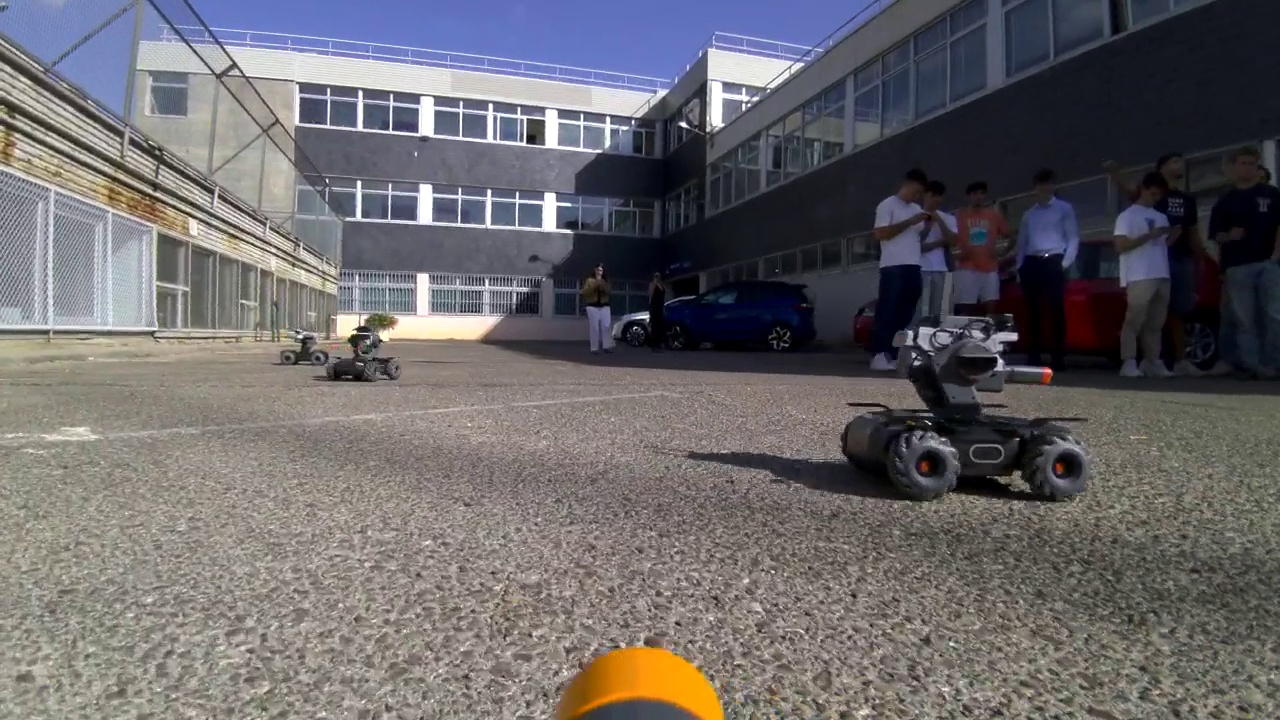robot: (846, 308, 1095, 497), (326, 322, 405, 383), (279, 325, 332, 376)
